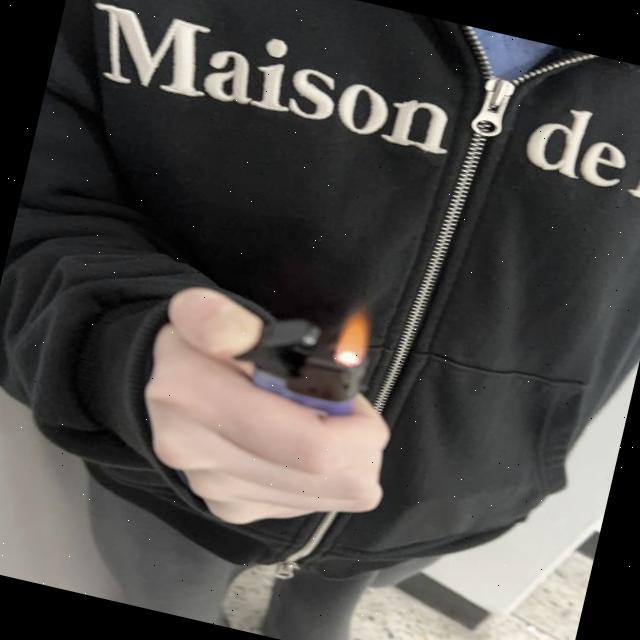fire: (336, 304, 372, 364)
